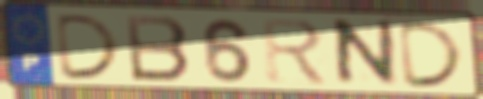6: (201, 17, 253, 85)
B: (122, 13, 193, 84)
D: (397, 20, 468, 89), (54, 12, 125, 81)
N: (333, 17, 400, 90)
R: (259, 16, 333, 88)
